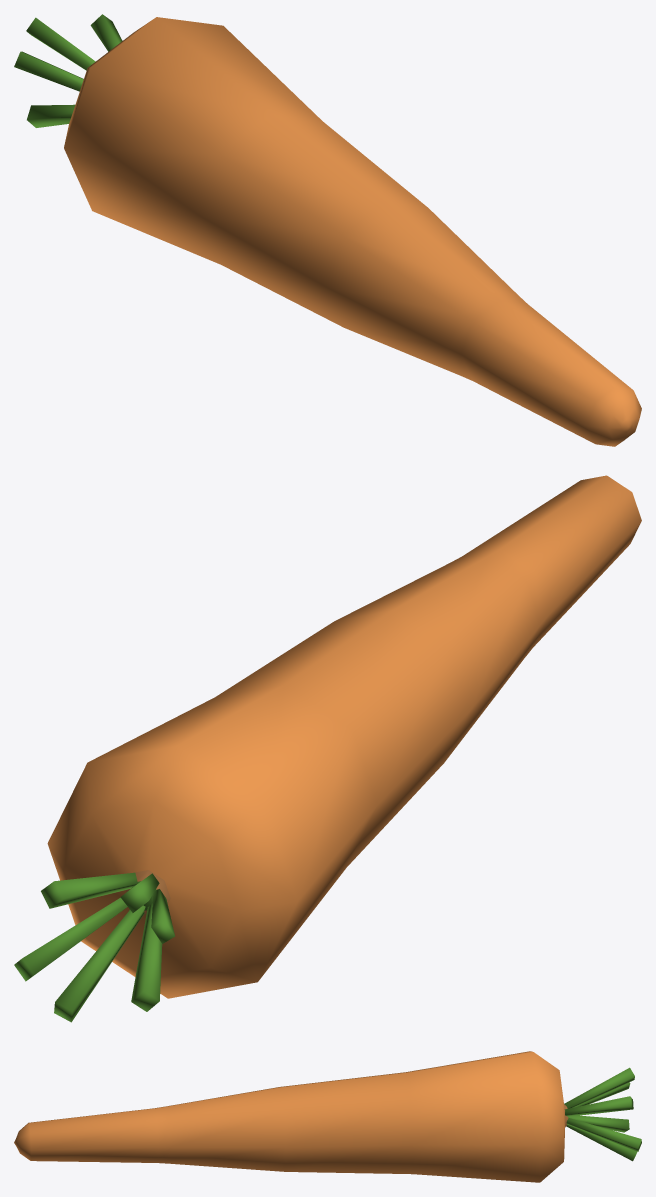
File: cenoura.fbx
3 views of the same model, one above another, from view 1: azimuth 30°, elevation 25°; view 2: azimuth 150°, elevation 25°; view 3: azimuth 270°, elevation 25° (orthographic). The views are drawn at different scales.
Parts seen in each view (by area): view 1: cenoura; view 2: cenoura; view 3: cenoura.
Boxes of the visible parts, x1,y1,x2,y2 form: cenoura: [14, 14, 641, 446]; cenoura: [14, 475, 641, 1022]; cenoura: [14, 1051, 641, 1182].
Bounding box in the file's own units: 199 × 200 × 886.
